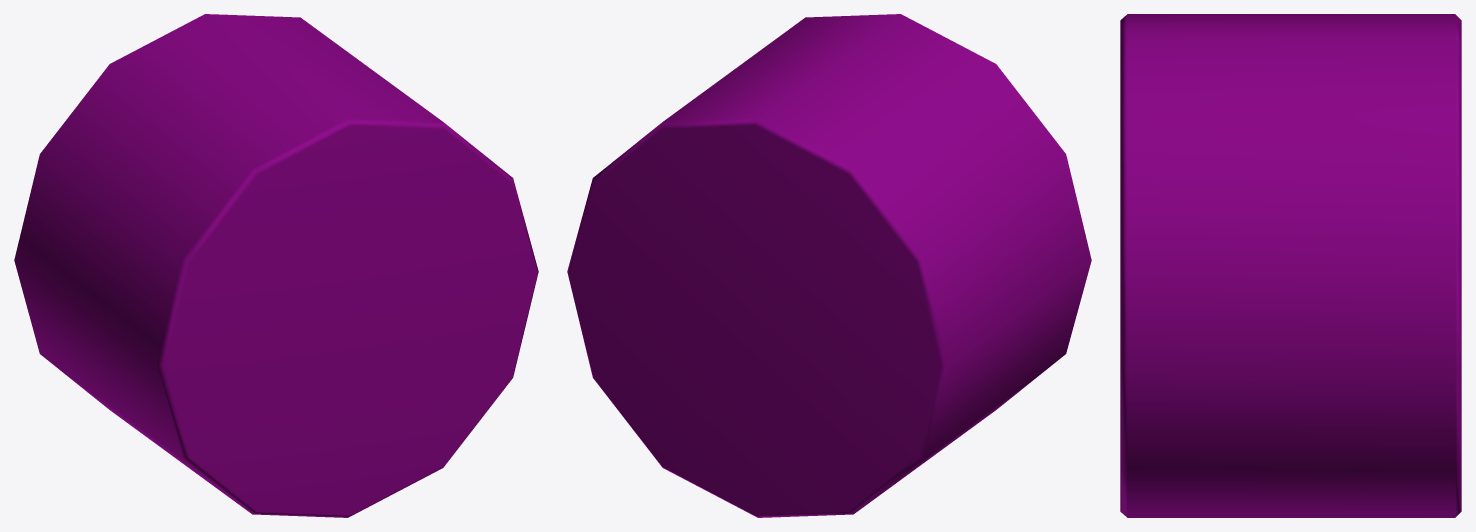
The model's file is Pipe_Connection.fbx.
3 views of the same model, side by side, from view 1: azimuth 30°, elevation 25°; view 2: azimuth 150°, elevation 25°; view 3: azimuth 270°, elevation 25° (orthographic). The views are drawn at different scales.
Visible parts, largest first — view 1: Pipe_Connection; view 2: Pipe_Connection; view 3: Pipe_Connection.
Part boxes in pixels (box(x1,y1,x2,y2)): Pipe_Connection: box(14, 14, 538, 517); Pipe_Connection: box(567, 14, 1091, 517); Pipe_Connection: box(1120, 14, 1461, 517).
Bounding box in the file's own units: 49.71 × 49.71 × 33.57.
